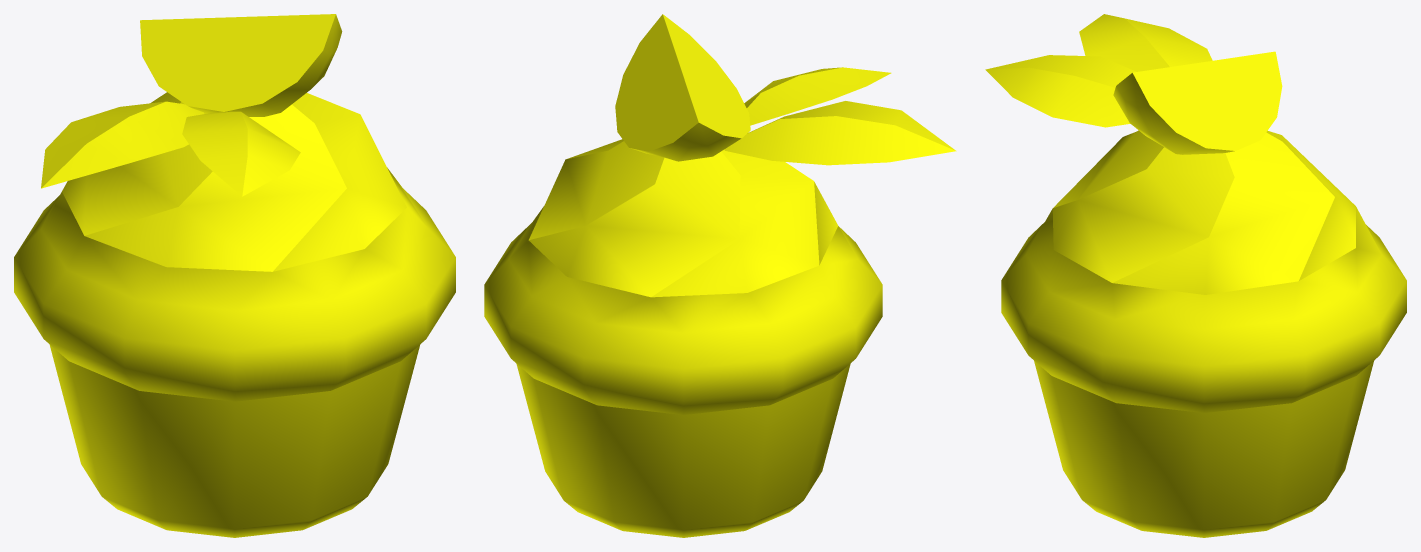
3 views of the same model, side by side, from view 1: azimuth 30°, elevation 25°; view 2: azimuth 150°, elevation 25°; view 3: azimuth 270°, elevation 25° (orthographic). The views are drawn at different scales.
Parts seen in each view (by area): view 1: m_Cupcake16; view 2: m_Cupcake16; view 3: m_Cupcake16.
Boxes of the visible parts, x1,y1,x2,y2 form: m_Cupcake16: (14,14,455,537); m_Cupcake16: (484,14,956,537); m_Cupcake16: (985,14,1406,537).
Bounding box in the file's own units: 0.1309 × 0.1365 × 0.1184.
1 material, 1 textured.
